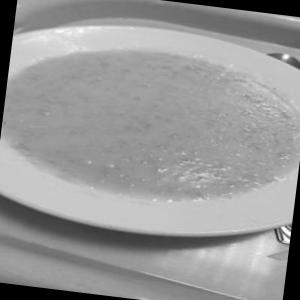porridge: (0, 29, 300, 264)
